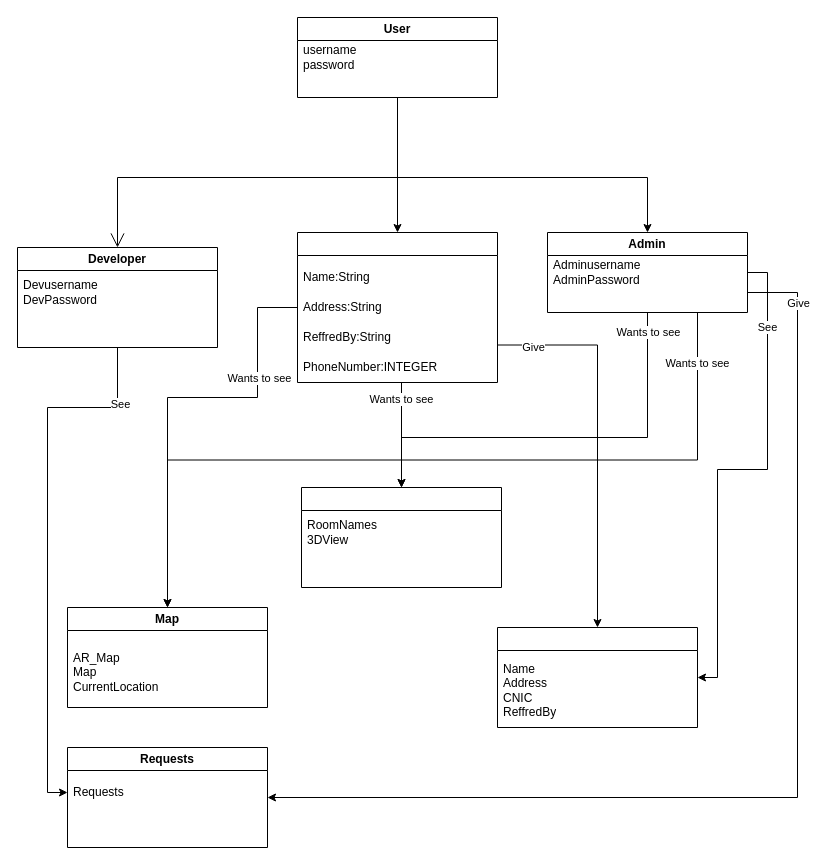
This 827x865 diagram has some shape labels left out. The box of each missing label's shape, as (x1, y1, x2, y2) in pixels:
3Dmodel: (300, 486, 502, 588)
FeedBack: (496, 626, 698, 728)
Visitor: (296, 232, 498, 382)
